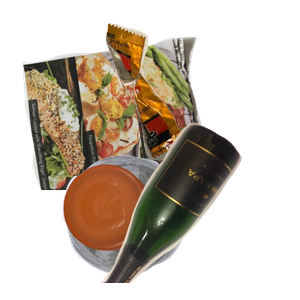glass: (87, 120, 300, 300)
paper: (20, 34, 221, 214)
plastic: (60, 152, 237, 300)
trash: (103, 21, 300, 174)
